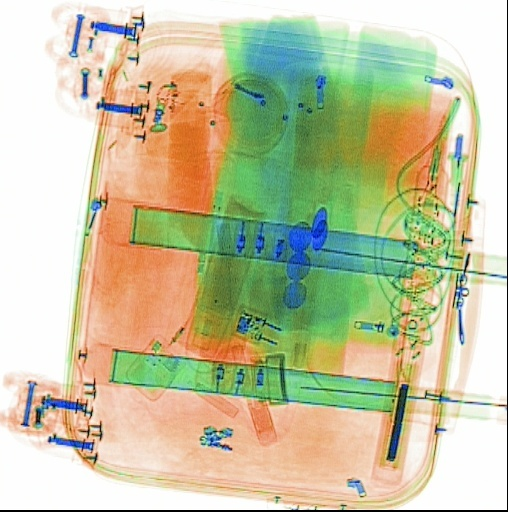pressure: (183, 187, 266, 352)
